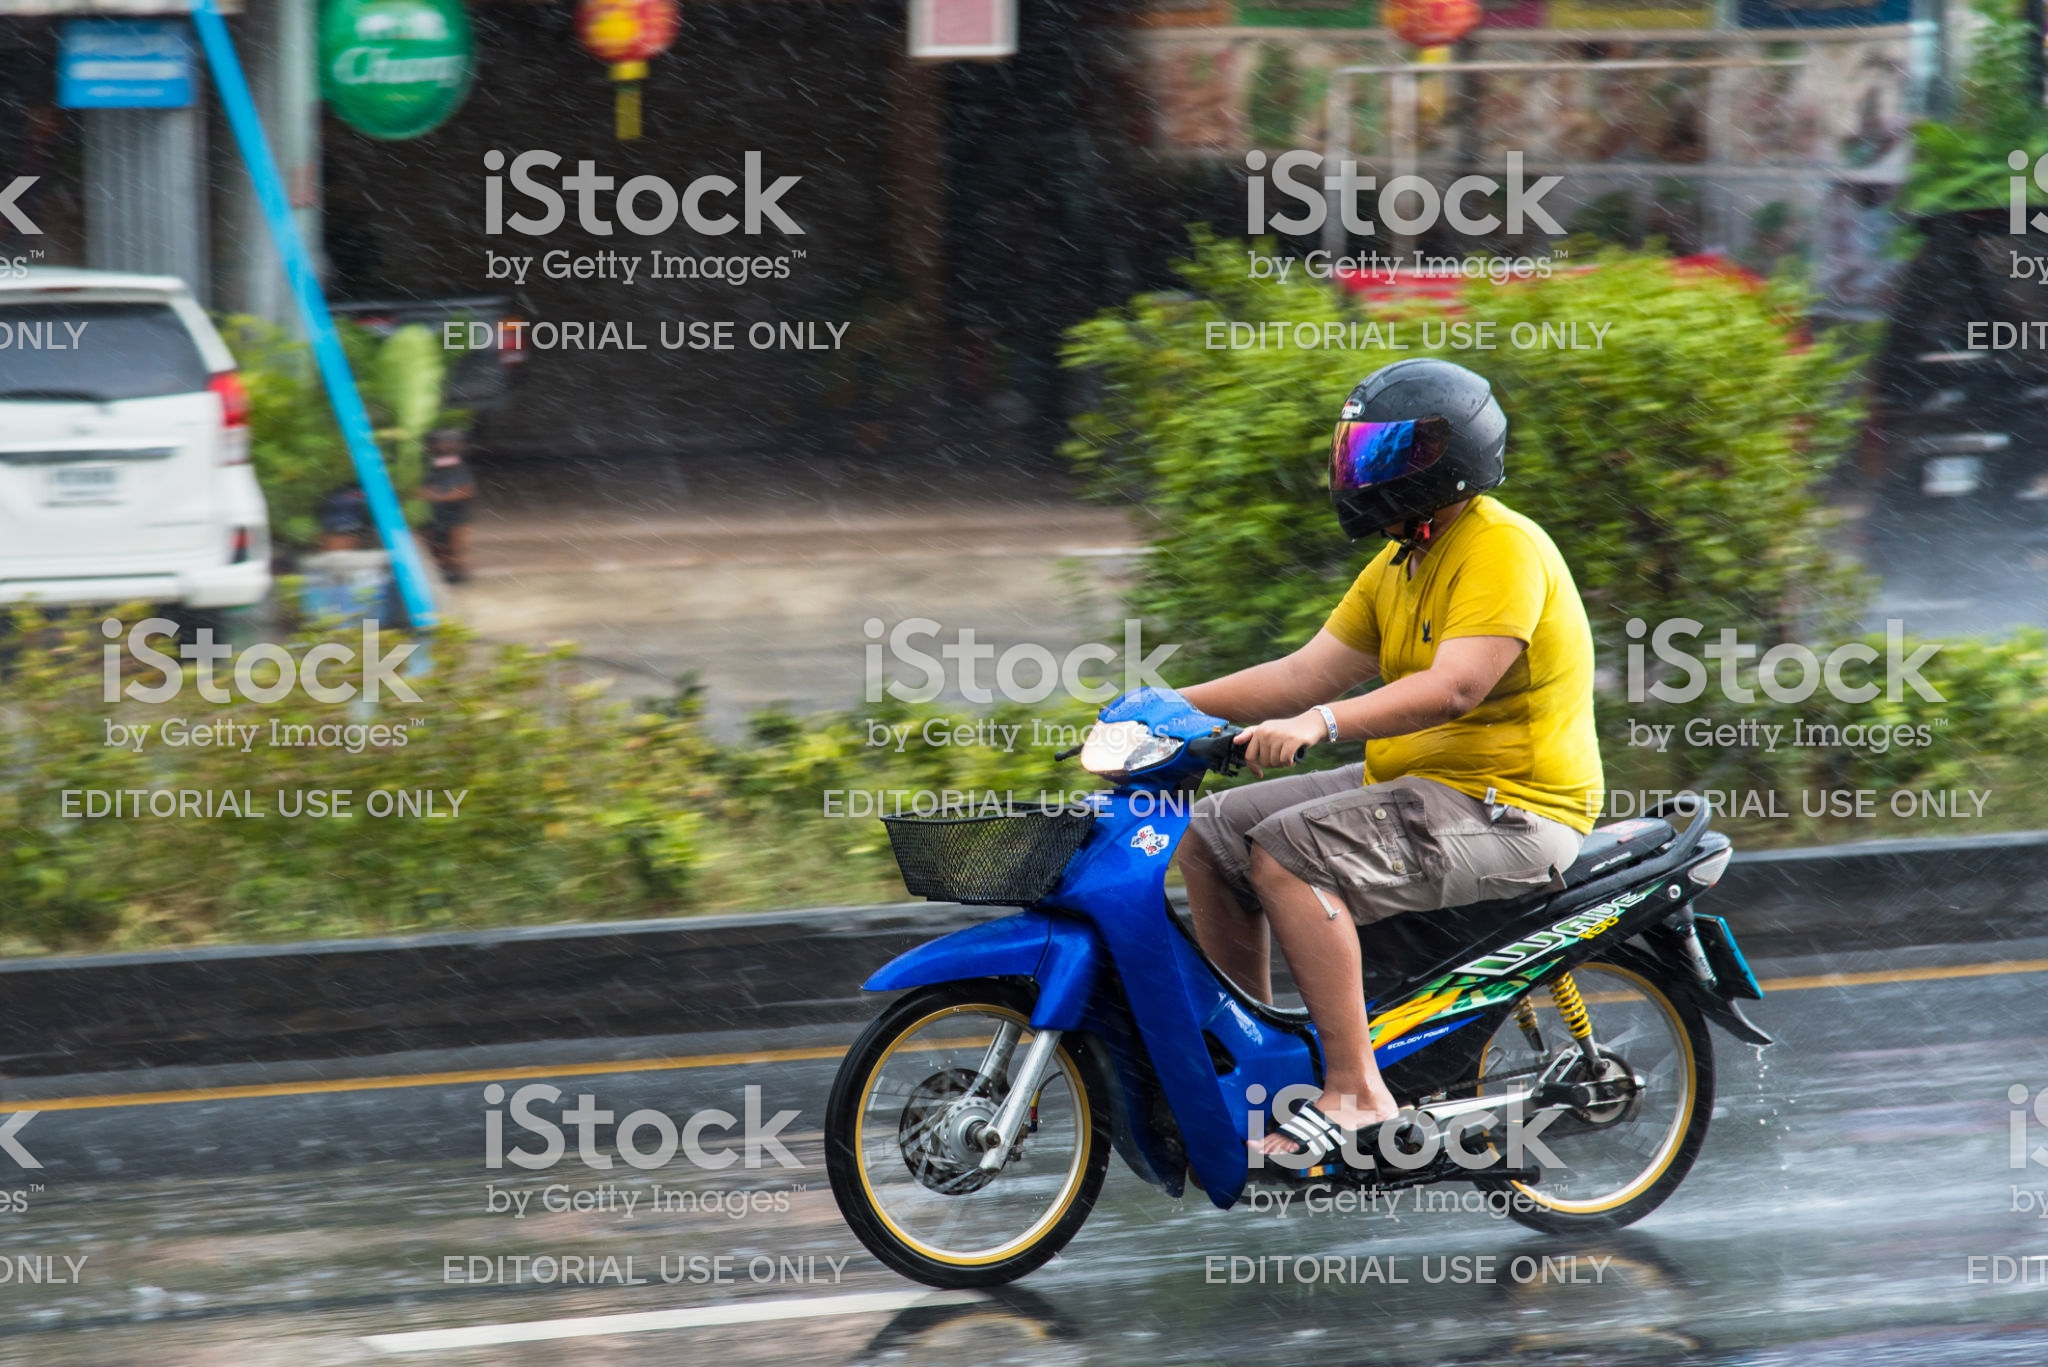helmet: (1304, 334, 1511, 522)
